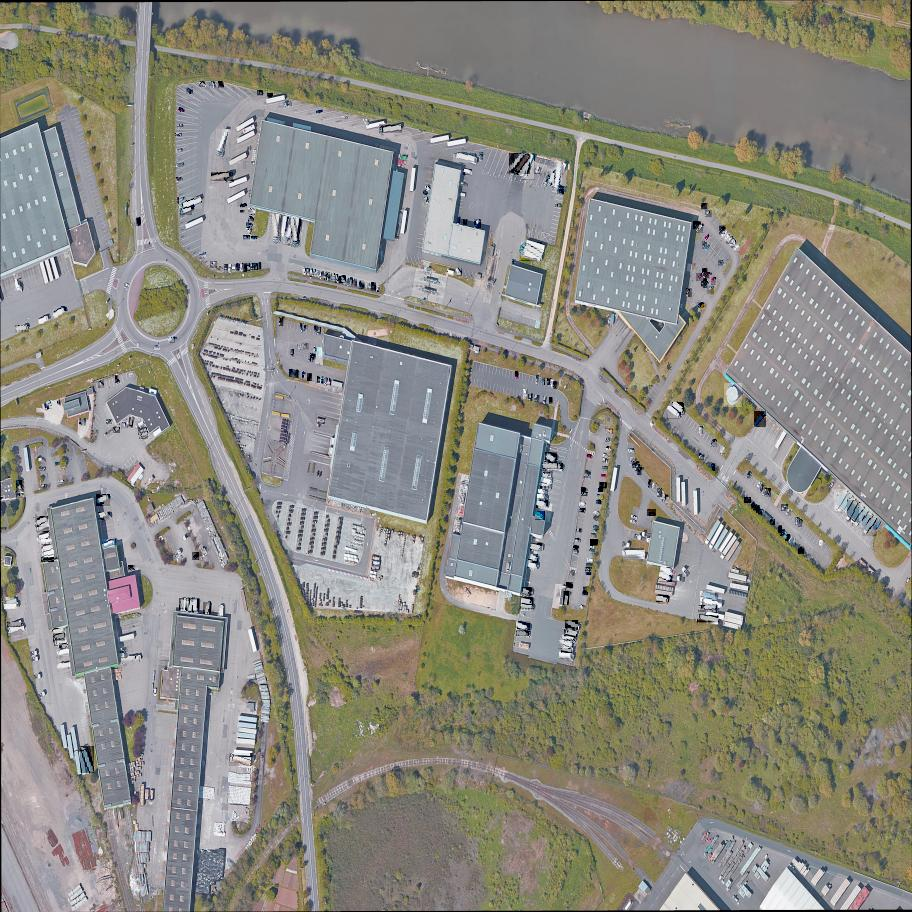large-vehicle: (216, 130, 233, 159), (283, 218, 298, 245), (81, 746, 95, 773), (509, 153, 527, 174), (521, 242, 543, 259), (861, 516, 878, 537), (515, 154, 532, 175), (522, 155, 536, 180), (834, 489, 849, 512), (836, 494, 854, 513), (853, 508, 870, 528), (230, 753, 253, 767), (178, 197, 203, 209), (519, 249, 542, 262), (699, 597, 723, 609), (847, 500, 860, 522), (292, 218, 301, 248), (272, 214, 281, 242), (555, 162, 563, 192), (754, 411, 768, 428), (52, 306, 68, 320), (454, 154, 476, 164), (666, 407, 682, 420), (853, 503, 862, 526), (211, 173, 234, 182), (697, 615, 719, 624), (671, 402, 685, 416), (96, 494, 111, 507), (379, 125, 403, 133), (700, 591, 717, 602), (516, 621, 531, 633), (547, 172, 558, 188), (35, 516, 49, 528), (544, 452, 558, 464), (558, 639, 573, 650), (622, 551, 645, 558), (180, 206, 194, 217), (565, 621, 579, 632), (37, 532, 52, 542), (659, 572, 673, 582), (9, 626, 24, 635), (543, 463, 562, 470), (53, 629, 66, 639), (37, 523, 50, 533), (53, 634, 67, 643), (37, 315, 51, 324), (102, 539, 116, 548), (41, 545, 54, 554), (540, 476, 553, 485), (698, 605, 717, 611), (56, 649, 70, 657), (564, 629, 578, 637), (121, 657, 139, 663), (99, 513, 111, 522), (656, 595, 669, 603), (521, 597, 534, 605), (660, 568, 673, 576), (522, 587, 533, 596), (41, 556, 55, 563), (15, 325, 29, 332), (41, 550, 55, 557), (564, 591, 571, 605), (203, 603, 211, 615), (561, 646, 573, 654), (527, 561, 539, 569), (530, 543, 542, 551), (15, 279, 22, 292), (139, 430, 149, 439), (16, 481, 24, 492), (528, 555, 539, 563), (179, 598, 186, 610), (218, 605, 225, 617), (188, 599, 194, 613), (536, 501, 548, 508), (60, 644, 69, 653), (135, 422, 145, 430), (535, 512, 545, 520), (137, 428, 148, 435), (8, 622, 22, 627), (520, 604, 534, 609), (516, 631, 529, 636), (58, 663, 68, 669), (193, 599, 198, 611), (5, 604, 17, 609), (559, 653, 571, 658), (39, 539, 52, 543), (562, 636, 574, 640), (463, 169, 472, 174), (55, 643, 67, 646), (129, 418, 133, 427), (121, 653, 128, 658), (540, 484, 551, 487), (537, 495, 545, 499), (542, 473, 550, 477), (169, 338, 175, 343), (539, 489, 545, 494), (119, 649, 126, 652), (185, 598, 186, 610)
small-vehicle: (696, 224, 705, 233), (719, 225, 727, 235), (701, 278, 709, 287), (693, 221, 702, 229), (719, 226, 727, 235), (192, 553, 201, 561), (186, 87, 194, 95), (707, 287, 715, 295), (696, 273, 704, 281), (781, 504, 789, 512), (789, 539, 797, 547), (721, 231, 729, 239), (733, 243, 741, 251), (723, 233, 731, 241), (701, 203, 709, 211), (630, 458, 638, 466), (686, 288, 693, 297), (598, 482, 607, 489), (648, 510, 657, 517), (475, 220, 482, 229), (729, 238, 736, 247), (657, 488, 663, 498), (705, 234, 712, 242), (590, 540, 598, 547), (799, 547, 806, 555), (731, 241, 738, 249), (726, 237, 734, 244), (632, 462, 640, 469), (637, 468, 644, 476), (308, 354, 314, 363), (113, 428, 122, 434), (371, 282, 377, 291), (762, 487, 768, 496), (703, 268, 709, 277), (663, 494, 669, 503), (316, 270, 322, 279), (648, 479, 654, 488), (280, 317, 285, 327), (761, 483, 766, 493), (177, 197, 184, 204), (209, 81, 216, 88), (218, 81, 225, 88), (211, 261, 218, 268), (744, 497, 751, 504), (711, 440, 718, 447), (786, 510, 793, 517), (635, 465, 642, 472), (303, 324, 309, 332), (199, 253, 207, 259), (317, 328, 323, 336), (359, 281, 365, 289), (697, 302, 705, 308), (766, 489, 772, 497), (699, 453, 705, 461), (702, 241, 708, 249), (705, 211, 713, 217), (534, 395, 540, 403), (456, 268, 462, 276), (660, 492, 666, 500), (588, 549, 596, 555), (137, 217, 142, 226), (243, 263, 248, 272), (346, 277, 351, 286), (199, 82, 206, 88), (257, 90, 264, 96), (176, 556, 183, 562), (753, 504, 759, 511), (720, 447, 726, 454), (758, 482, 764, 489), (786, 535, 792, 542), (780, 530, 786, 537), (98, 381, 104, 388), (536, 168, 542, 175), (557, 190, 564, 196), (554, 382, 560, 389), (528, 394, 534, 401), (566, 583, 573, 589), (585, 570, 592, 576), (573, 545, 580, 551), (594, 511, 601, 517), (47, 401, 52, 409), (308, 373, 313, 381), (290, 349, 295, 357), (302, 267, 307, 275), (747, 472, 752, 480), (778, 526, 783, 534), (548, 378, 553, 386), (424, 197, 429, 205), (121, 423, 127, 429), (153, 688, 157, 697), (240, 263, 244, 272), (719, 261, 725, 267), (770, 520, 776, 526), (579, 604, 585, 610), (523, 389, 527, 398), (424, 190, 430, 196), (336, 274, 340, 283), (341, 276, 347, 282), (154, 346, 161, 351), (176, 164, 183, 169), (178, 107, 185, 112), (39, 467, 46, 472), (317, 377, 322, 384), (304, 343, 309, 350), (246, 227, 253, 232), (243, 235, 250, 240), (751, 502, 756, 509), (367, 284, 372, 291), (704, 282, 709, 289), (106, 420, 113, 425), (309, 270, 314, 277), (331, 273, 336, 280), (582, 591, 589, 596), (602, 459, 609, 464), (605, 446, 612, 451), (587, 558, 594, 563), (250, 237, 258, 241), (542, 378, 546, 386), (759, 509, 764, 515), (583, 586, 589, 591), (558, 186, 564, 191), (603, 454, 609, 459), (240, 204, 247, 208), (295, 371, 299, 378), (302, 371, 306, 378), (328, 378, 332, 385), (314, 326, 318, 333), (258, 262, 262, 269), (254, 264, 258, 271), (757, 506, 761, 513), (712, 278, 716, 285), (784, 532, 788, 539), (795, 518, 799, 525), (585, 568, 592, 572), (598, 494, 603, 499), (426, 186, 431, 191), (581, 487, 586, 492), (224, 264, 228, 270), (236, 263, 239, 271), (247, 263, 250, 271), (306, 269, 310, 275), (128, 565, 134, 569), (551, 379, 554, 387), (350, 277, 353, 285), (267, 94, 273, 98), (587, 455, 593, 459), (581, 492, 587, 496), (593, 526, 599, 530), (313, 347, 316, 354), (115, 376, 118, 383), (479, 153, 482, 160), (324, 272, 327, 279), (250, 214, 255, 218), (177, 149, 182, 153), (298, 344, 302, 349), (38, 458, 43, 462), (313, 270, 317, 275), (300, 324, 303, 330), (228, 265, 231, 271), (820, 540, 823, 546), (339, 277, 342, 283), (594, 517, 600, 520), (246, 222, 250, 226), (292, 369, 294, 377), (289, 369, 291, 377), (354, 279, 356, 287), (587, 563, 591, 567), (125, 284, 128, 289), (176, 177, 181, 180), (42, 485, 47, 488), (248, 208, 253, 211), (706, 273, 709, 278), (543, 397, 546, 402), (317, 110, 322, 113), (628, 449, 633, 452), (700, 427, 702, 434), (458, 217, 460, 224), (327, 274, 329, 281), (18, 494, 22, 497), (45, 403, 47, 409), (83, 419, 86, 423), (216, 267, 220, 270), (251, 264, 253, 270), (363, 120, 369, 122), (712, 465, 714, 471), (799, 520, 801, 526), (464, 220, 467, 224), (55, 462, 58, 466), (555, 205, 561, 207), (536, 376, 538, 382), (601, 474, 605, 477), (586, 471, 590, 474), (602, 466, 608, 468), (599, 489, 603, 492), (597, 500, 601, 503), (592, 529, 596, 532), (178, 125, 183, 127), (377, 286, 379, 291), (59, 481, 64, 483), (324, 378, 326, 383), (313, 355, 315, 360), (630, 521, 635, 523), (590, 547, 595, 549), (580, 509, 585, 511), (580, 503, 585, 505), (462, 182, 465, 185), (249, 218, 253, 220), (247, 231, 251, 233), (605, 439, 609, 441), (653, 485, 655, 489), (573, 551, 577, 553), (58, 399, 59, 406), (176, 133, 179, 135), (321, 378, 322, 384), (632, 516, 635, 518), (321, 273, 322, 279), (584, 476, 590, 477), (576, 539, 578, 542), (577, 530, 580, 532), (592, 533, 595, 535), (513, 260, 514, 264), (516, 372, 517, 376), (550, 399, 551, 403), (342, 117, 345, 118), (241, 211, 243, 212), (80, 419, 80, 425), (233, 265, 233, 272)
storage-tank: (722, 384, 745, 407)
